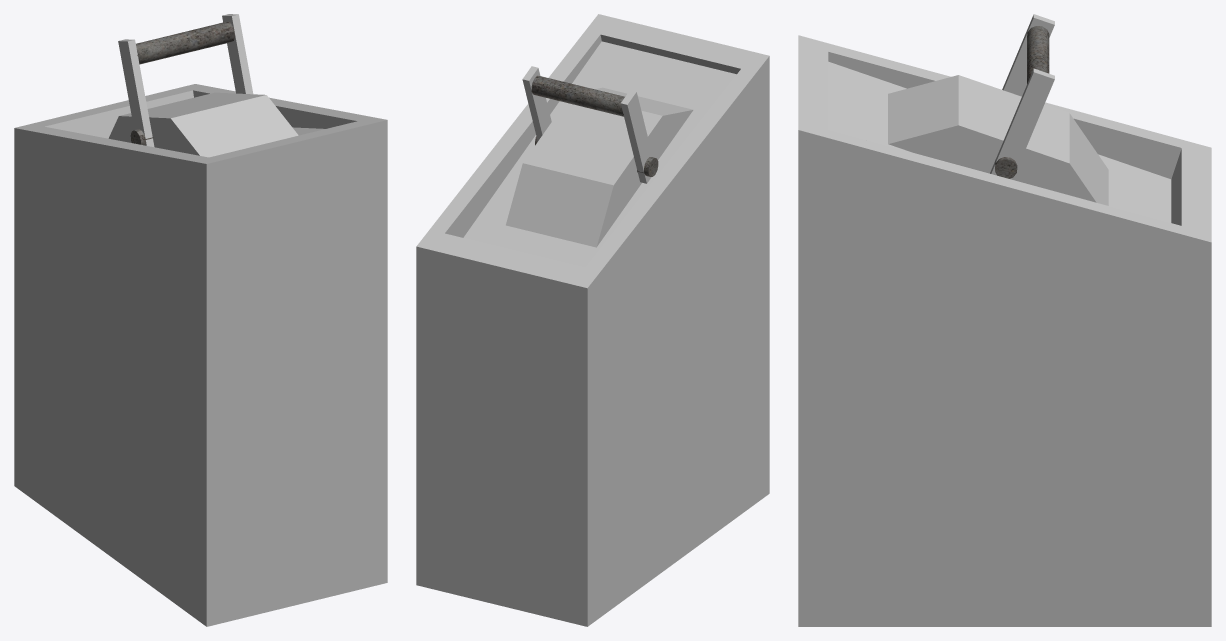
The model's file is SM_Scene_A_WaterGateControl00.fbx.
The picture shows the model from 3 angles, left to right: view 1: azimuth 30°, elevation 25°; view 2: azimuth 150°, elevation 25°; view 3: azimuth 270°, elevation 25°; orthographic projection. The views are drawn at different scales.
Visible parts, largest first — view 1: SM_Scene_A_WaterGateControl00, lever; view 2: SM_Scene_A_WaterGateControl00, lever; view 3: SM_Scene_A_WaterGateControl00, lever.
Part boxes in pixels (box(x1,y1,x2,y2)): SM_Scene_A_WaterGateControl00: box(14, 84, 387, 626); lever: box(118, 14, 253, 147); SM_Scene_A_WaterGateControl00: box(416, 14, 769, 626); lever: box(522, 66, 658, 183); SM_Scene_A_WaterGateControl00: box(798, 35, 1211, 626); lever: box(990, 14, 1054, 179).
Bounding box in the file's own units: 69.46 × 183 × 128.
